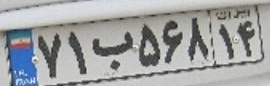character: (90, 28, 136, 75), (34, 30, 65, 81), (64, 28, 89, 78), (137, 21, 162, 71), (186, 15, 211, 62), (161, 18, 185, 66), (236, 19, 259, 60), (217, 20, 236, 61)
